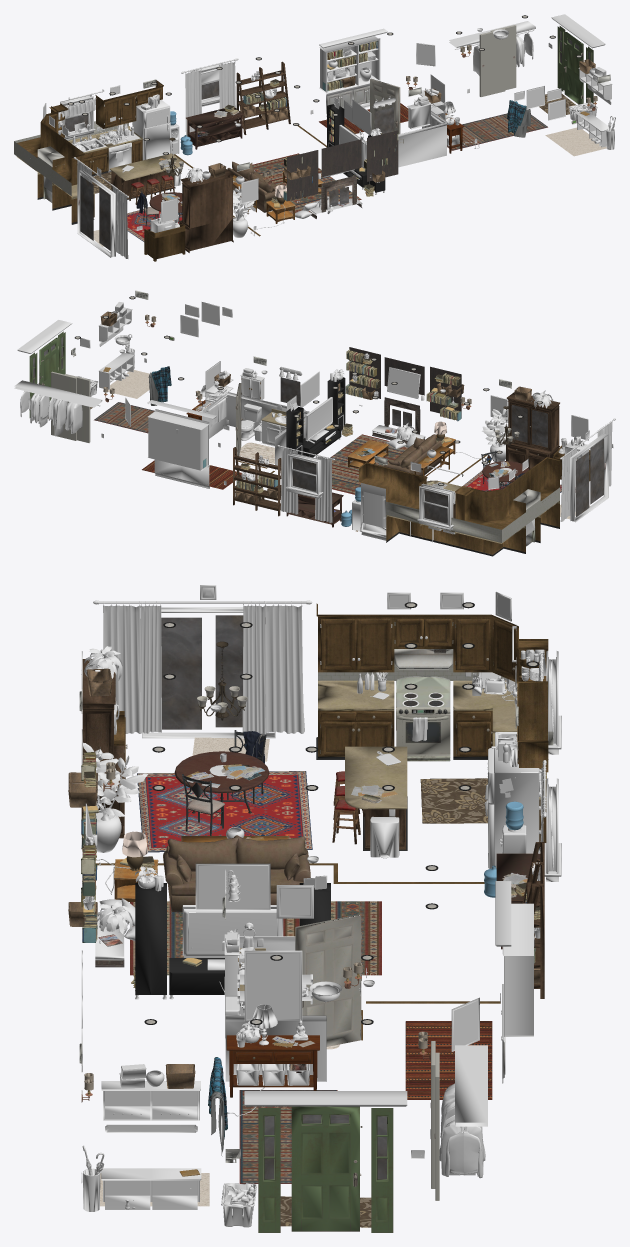
Rendered from 01_primer_piso_furnitures.fbx.
The picture shows the model from 3 angles, top to bottom: view 1: azimuth 30°, elevation 25°; view 2: azimuth 150°, elevation 25°; view 3: azimuth 270°, elevation 25°; orthographic projection. The views are drawn at different scales.
Visible parts, largest first — view 1: 40_Hom-Kitchen-Cabinets-Wood-Dark_0.1_0_0.000, 40_Hom-Kitchen-Cabinets-Wood_0.1_0_0.001, 40_Hom-Wood-LivingShelf_0.1_0_0.001, 40_End-Shelf-Planks-Wood-Paint-White_0.1_0_0.001, 41_Off-Glass-Smear-Basic_0.1_0_0.000, 40_Hom-Laundry-Sliding-Door_0.1_0_0.000, 40_Hom-Kitchen-Cabinets_0.1_0_0.001, 40_Hom-Front-Door_0.1_0_0.001, 40_Hom-Curtain-Green-Geometric_0.1_0_1.001, 40_Hom-Bath-Wall-Tile_0.1_0_0.001, 40_Hom-Trim-Basic-Door_0.1_0_0.001, 40_Hom-Wine-Rack_0.1_0_0.000 (+37 smaller); view 2: 40_Hom-Kitchen-Cabinets-Wood_0.1_0_0.001, 40_End-Shelf-Planks-Wood-Paint-White_0.1_0_0.001, 41_Off-Glass-Smear-Basic_0.1_0_0.000, 40_Hom-Kitchen-Cabinets-Wood-Dark_0.1_0_0.000, 40_Hom-White-Subway-Tile_0.1_0_0.001, 40_Hom-Trim-Basic-Door_0.1_0_0.001, 40_Hom-Trim-Basic-Black-Color_0.1_0_0.000, 40_Hom-Wood-LivingShelf_0.1_0_0.001, 40_Hom-Picture-Family-Photo_0.1_0_0.000, 40_Hom-Clothes-Hanging-01_0.1_0_0.000, 40_Hom-Trim-Basic-Windows_0.1_0_0.001, 40_Hom-Vintage-Books_0.1_0_0.001 (+32 smaller); view 3: 40_Hom-Front-Door_0.1_0_0.001, 40_Hom-Kitchen-Cabinets_0.1_0_0.001, 40_End-Shelf-Planks-Wood-Paint-White_0.1_0_0.001, 40_Hom-Killim-Rugs-Style-01_0.1_0_0.001, 41_Off-Glass-Smear-Basic_0.1_0_0.000, 40_Hom-Curtain-Green_0.1_0_0.001, 40_End-Cassie-Moroccan-Shelf_0.1_0_1.000, 40_Hom-Kitchen-Cabinets-Wood_0.1_0_0.001, 40_Hom-Kitchen-Countertop_0.1_0_0.001, 40_Hom-Door_0.1_0_0.001, 40_Hom-Trim-Basic-Black-Color_0.1_0_0.000, 40_Hom-Elena-Sofa.B_0.1_0_0.001 (+40 smaller).
Part boxes in pixels (x1,y1,x2,y2): 40_Hom-Kitchen-Cabinets-Wood-Dark_0.1_0_0.000: (111,61,290,252); 40_Hom-Kitchen-Cabinets-Wood_0.1_0_0.001: (17,80,326,261); 40_Hom-Wood-LivingShelf_0.1_0_0.001: (287,130,398,218); 40_End-Shelf-Planks-Wood-Paint-White_0.1_0_0.001: (161,14,605,223); 41_Off-Glass-Smear-Basic_0.1_0_0.000: (65,31,590,250); 40_Hom-Laundry-Sliding-Door_0.1_0_0.000: (479,25,516,96); 40_Hom-Kitchen-Cabinets_0.1_0_0.001: (37,88,175,224); 40_Hom-Front-Door_0.1_0_0.001: (557,26,593,104); 40_Hom-Curtain-Green-Geometric_0.1_0_1.001: (185,62,236,135); 40_Hom-Bath-Wall-Tile_0.1_0_0.001: (366,114,446,167); 40_Hom-Trim-Basic-Door_0.1_0_0.001: (77,21,535,257); 40_Hom-Wine-Rack_0.1_0_0.000: (186,107,243,149); 40_Hom-Kitchen-Cabinets-Wood_0.1_0_0.001: (238,378,590,554); 40_End-Shelf-Planks-Wood-Paint-White_0.1_0_0.001: (17,304,588,488); 41_Off-Glass-Smear-Basic_0.1_0_0.000: (33,337,603,523); 40_Hom-Kitchen-Cabinets-Wood-Dark_0.1_0_0.000: (233,392,559,518); 40_Hom-White-Subway-Tile_0.1_0_0.001: (386,487,559,542); 40_Hom-Trim-Basic-Door_0.1_0_0.001: (14,380,608,522); 40_Hom-Trim-Basic-Black-Color_0.1_0_0.000: (286,377,345,457); 40_Hom-Wood-LivingShelf_0.1_0_0.001: (349,347,461,443); 40_Hom-Picture-Family-Photo_0.1_0_0.000: (126,303,419,424); 40_Hom-Clothes-Hanging-01_0.1_0_0.000: (20,391,82,436); 40_Hom-Trim-Basic-Windows_0.1_0_0.001: (286,452,453,530); 40_Hom-Vintage-Books_0.1_0_0.001: (240,349,461,493); 40_Hom-Front-Door_0.1_0_0.001: (258,1106,393,1232); 40_Hom-Kitchen-Cabinets_0.1_0_0.001: (114,619,539,850); 40_End-Shelf-Planks-Wood-Paint-White_0.1_0_0.001: (81,651,533,1106); 40_Hom-Killim-Rugs-Style-01_0.1_0_0.001: (137,771,312,852); 41_Off-Glass-Smear-Basic_0.1_0_0.000: (161,615,386,1179); 40_Hom-Curtain-Green_0.1_0_0.001: (103,605,304,733); 40_End-Cassie-Moroccan-Shelf_0.1_0_1.000: (101,1081,201,1209); 40_Hom-Kitchen-Cabinets-Wood_0.1_0_0.001: (95,603,548,1040); 40_Hom-Kitchen-Countertop_0.1_0_0.001: (239,680,546,990); 40_Hom-Door_0.1_0_0.001: (291,914,435,1213); 40_Hom-Trim-Basic-Black-Color_0.1_0_0.000: (135,883,330,994); 40_Hom-Elena-Sofa.B_0.1_0_0.001: (163,835,310,912).
Size of the model in its own units: 20.79 by 8.53 by 3.29.
